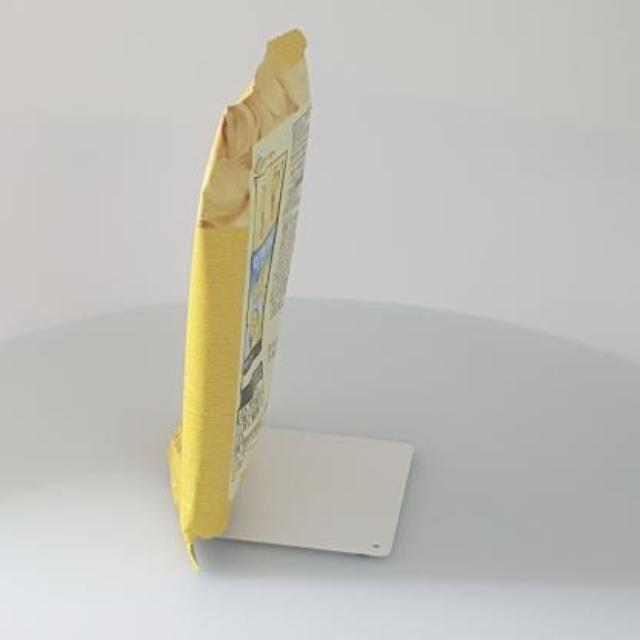snack_bag: (161, 19, 325, 579)
